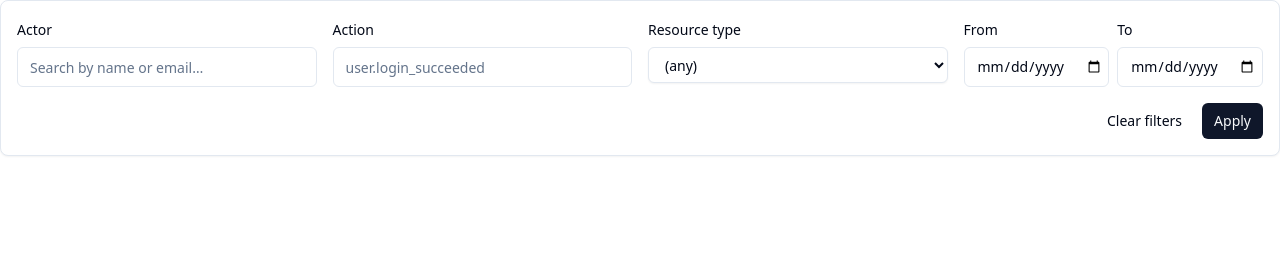
Test case: AuditFilters › actor combobox › selecting a user sets actor_id and closes the dropdown
Click the dropdown named "Actor filter". click: point(167, 67)
box: [17,47,316,87]
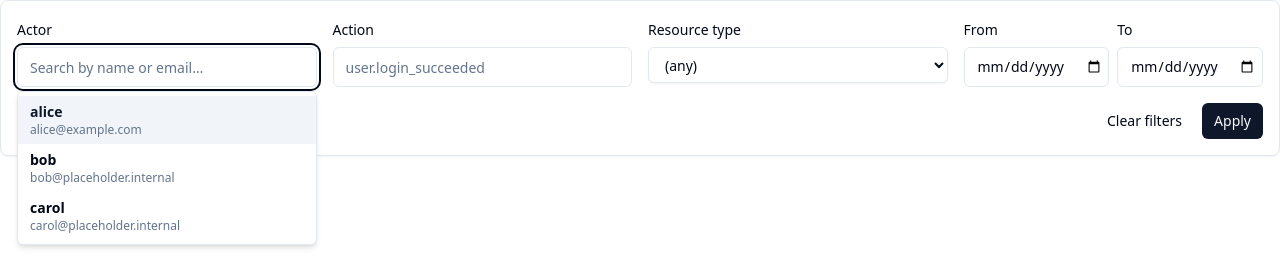
Press the mouse on the option "bob bob@placeholder.internal" at point(102, 168), box [30,150,174,186]
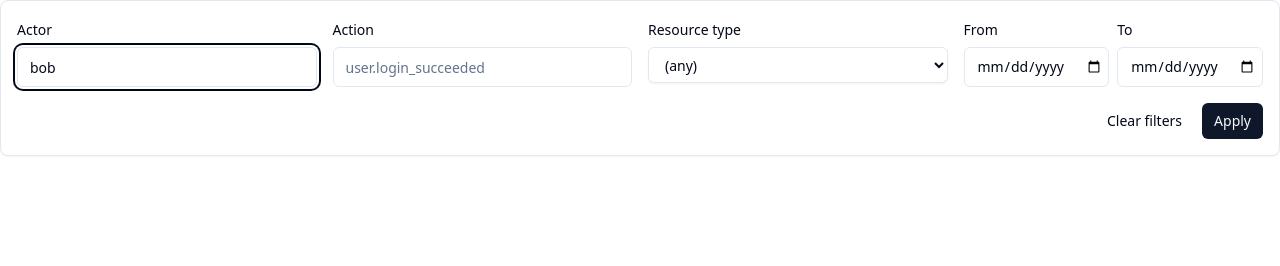
Expected: the list is gone
